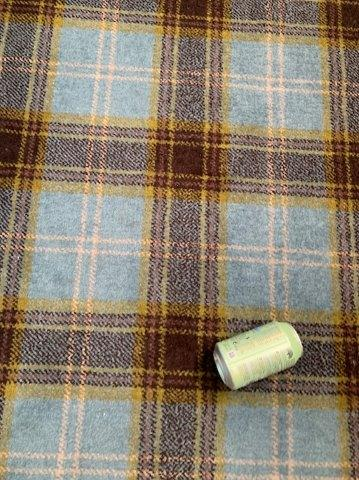kaleng: (213, 321, 303, 390)
